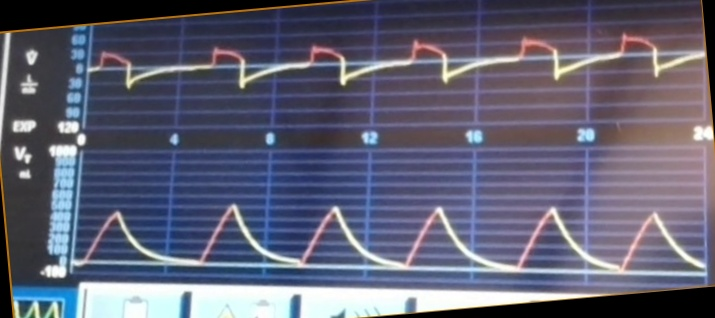Normal Flow: (91, 30, 704, 113)
Normal Volume: (81, 186, 704, 278)
